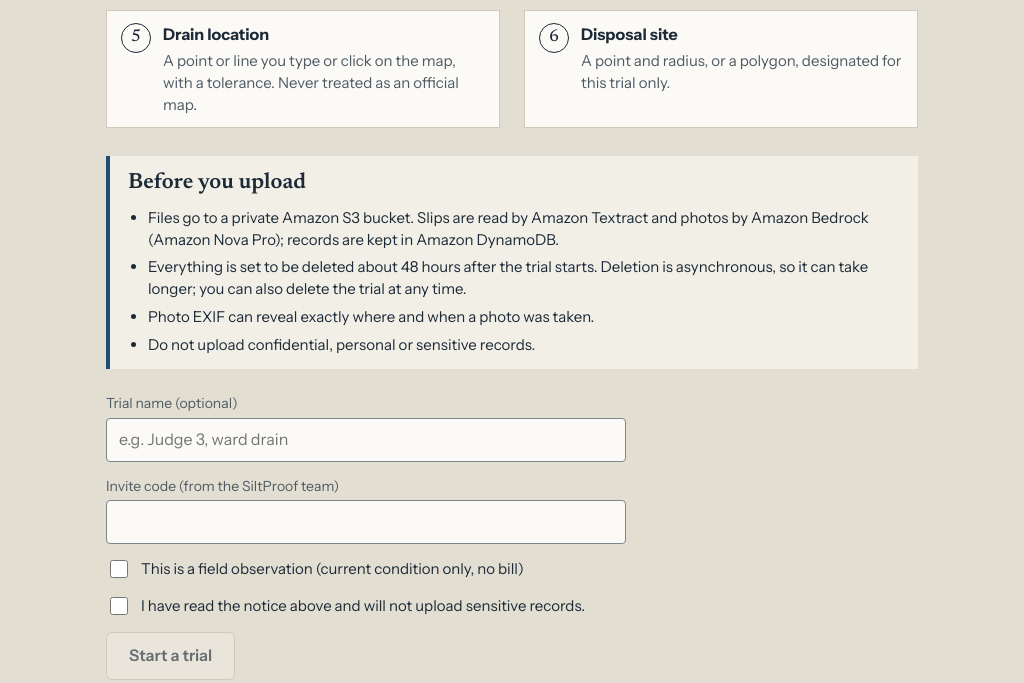
judge trial › shows server validation errors next to the field
(page scrolled)
Expected: the button "Start a trial" is disabled, x1=106 y1=632 x2=235 y2=680
Click the checkbox labelled "will not upload sensitive records": (119, 606) x1=110 y1=597 x2=128 y2=615
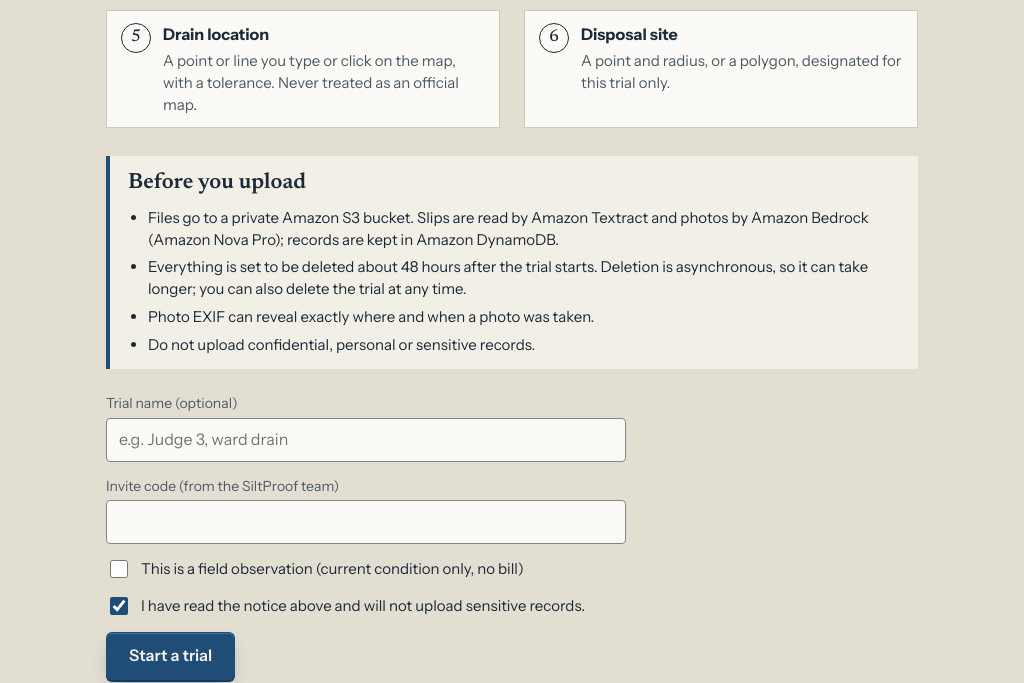
Click the button "Start a trial": (171, 656) x1=106 y1=632 x2=235 y2=680
(page scrolled)
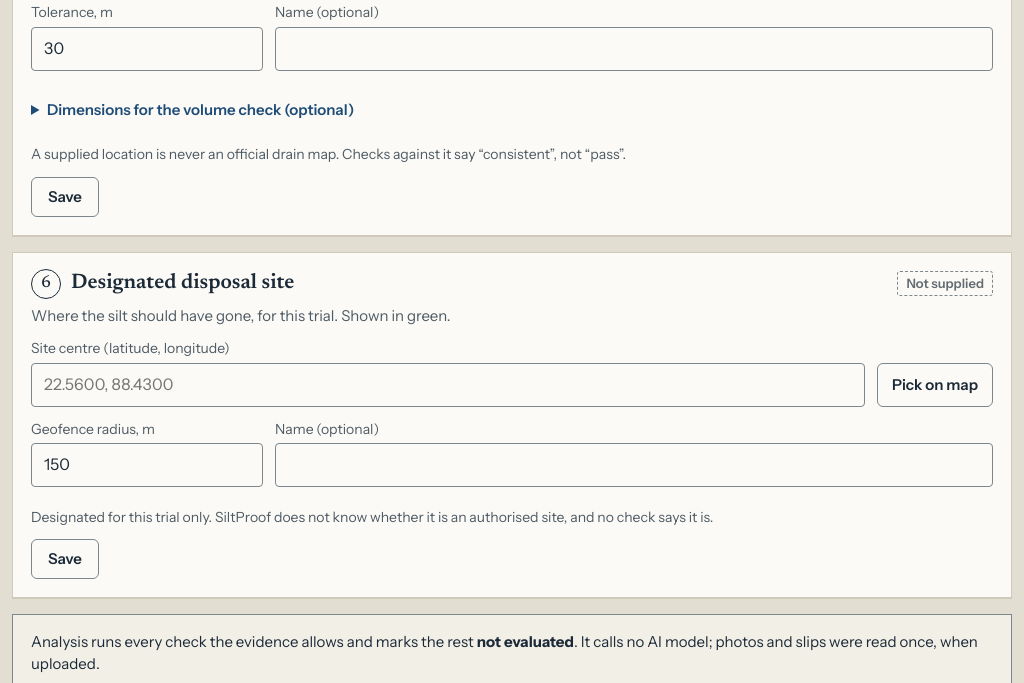
In the field labelled "Site centre (latitude, longitude)": (448, 385) x1=31 y1=363 x2=865 y2=407, type "22.56, 88.43"
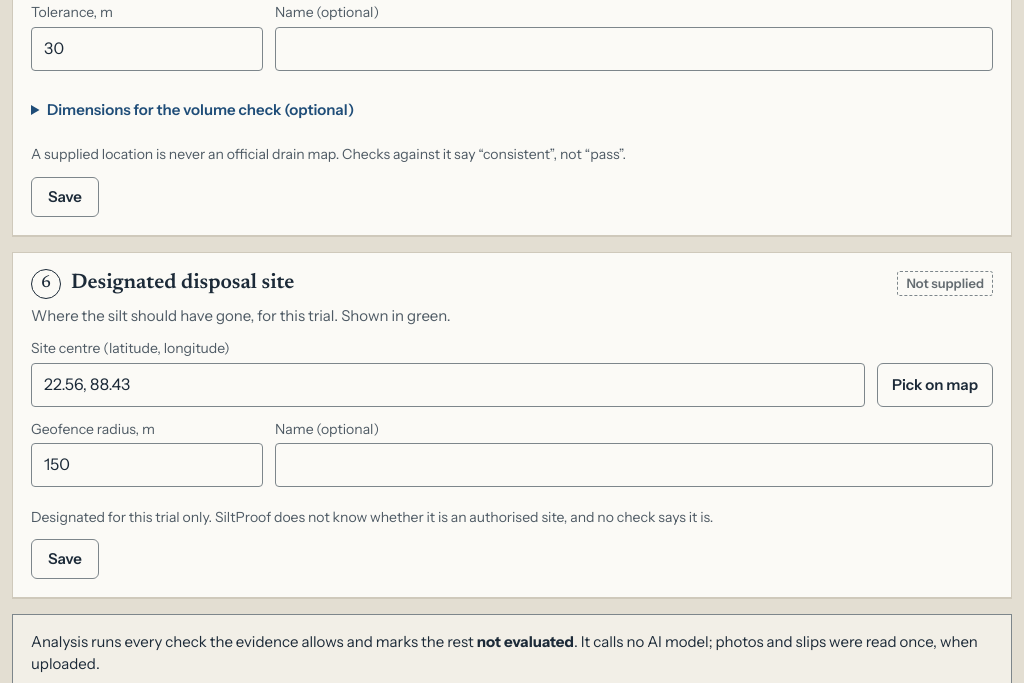
Replace the text in the field labelled "Geofence radius, m" with "5000": (147, 465) x1=31 y1=443 x2=263 y2=487
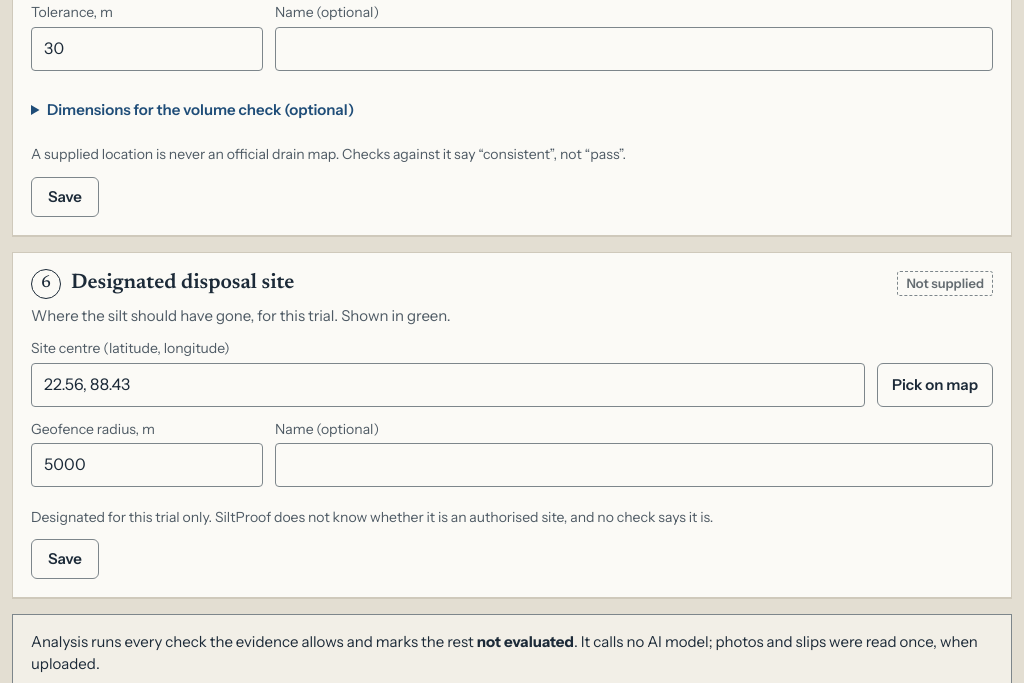
Click the submit button: (65, 559) x1=31 y1=539 x2=99 y2=579
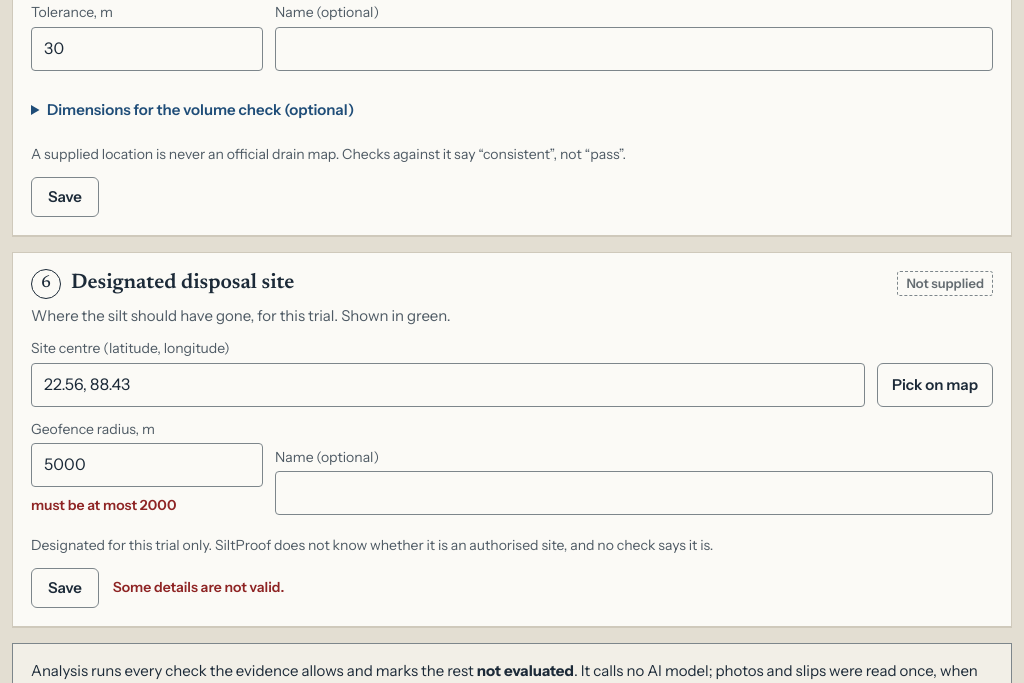
Expected: the text "must be at most 2000" is shown, x1=31 y1=496 x2=176 y2=514
